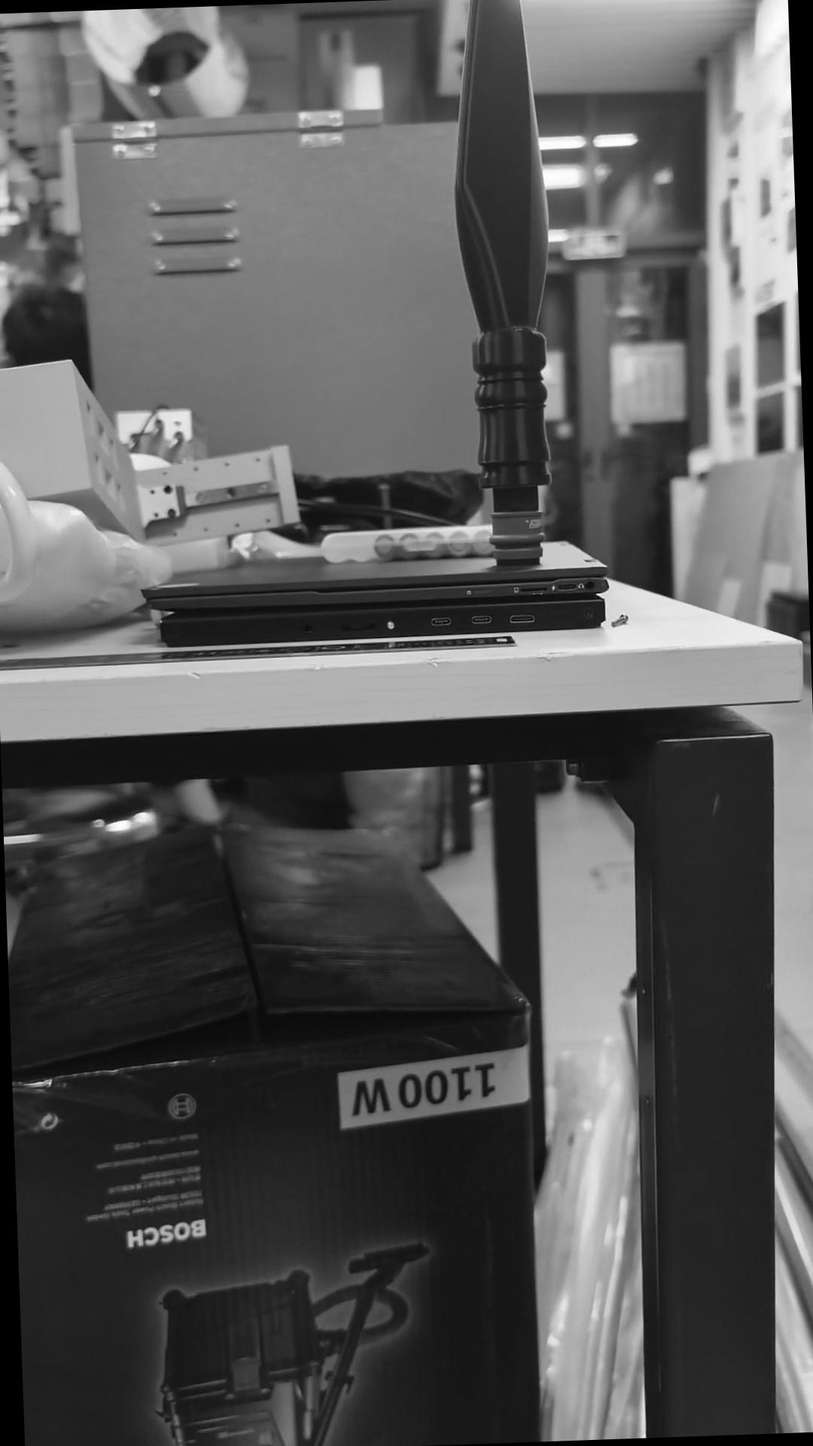base: (486, 508, 546, 573)
